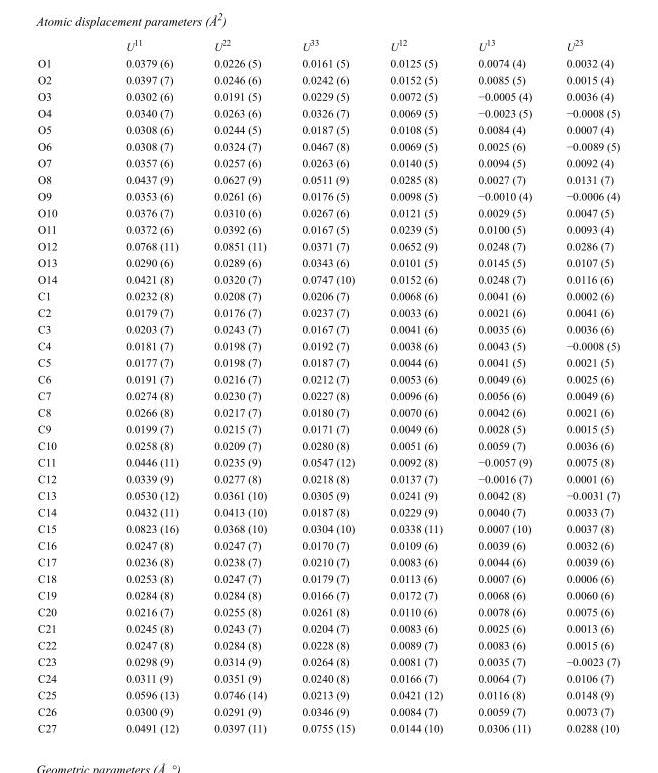table: (37, 37, 619, 733)
table column: (90, 37, 195, 733), (371, 37, 460, 733), (195, 37, 283, 733), (283, 37, 371, 733), (460, 37, 548, 733), (548, 37, 619, 733), (37, 37, 90, 733)
table column header: (37, 37, 619, 54)
table row: (37, 37, 619, 54), (37, 54, 619, 71), (37, 87, 619, 104), (37, 120, 619, 137), (37, 137, 619, 154), (37, 170, 619, 187), (37, 187, 619, 204), (37, 220, 619, 237), (37, 253, 619, 270), (37, 270, 619, 287), (37, 303, 619, 320), (37, 320, 619, 337), (37, 353, 619, 370), (37, 386, 619, 403), (37, 403, 619, 420), (37, 436, 619, 453), (37, 453, 619, 470), (37, 486, 619, 503), (37, 519, 619, 536), (37, 536, 619, 553), (37, 569, 619, 586), (37, 586, 619, 603), (37, 619, 619, 636), (37, 652, 619, 669), (37, 669, 619, 686), (37, 702, 619, 719), (37, 71, 619, 87), (37, 104, 619, 120), (37, 154, 619, 170), (37, 204, 619, 220), (37, 237, 619, 253), (37, 287, 619, 303), (37, 337, 619, 353), (37, 370, 619, 386), (37, 420, 619, 436), (37, 470, 619, 486), (37, 503, 619, 519), (37, 553, 619, 569), (37, 603, 619, 619), (37, 636, 619, 652), (37, 686, 619, 702), (37, 719, 619, 733)
